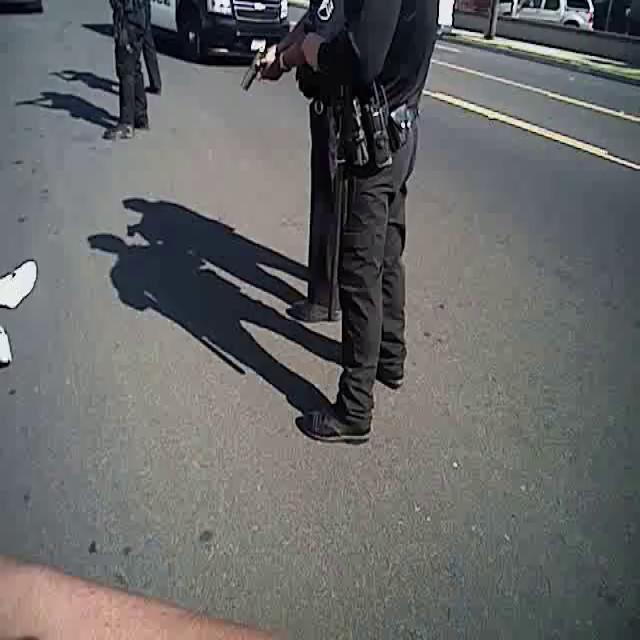gun: (235, 41, 281, 107)
